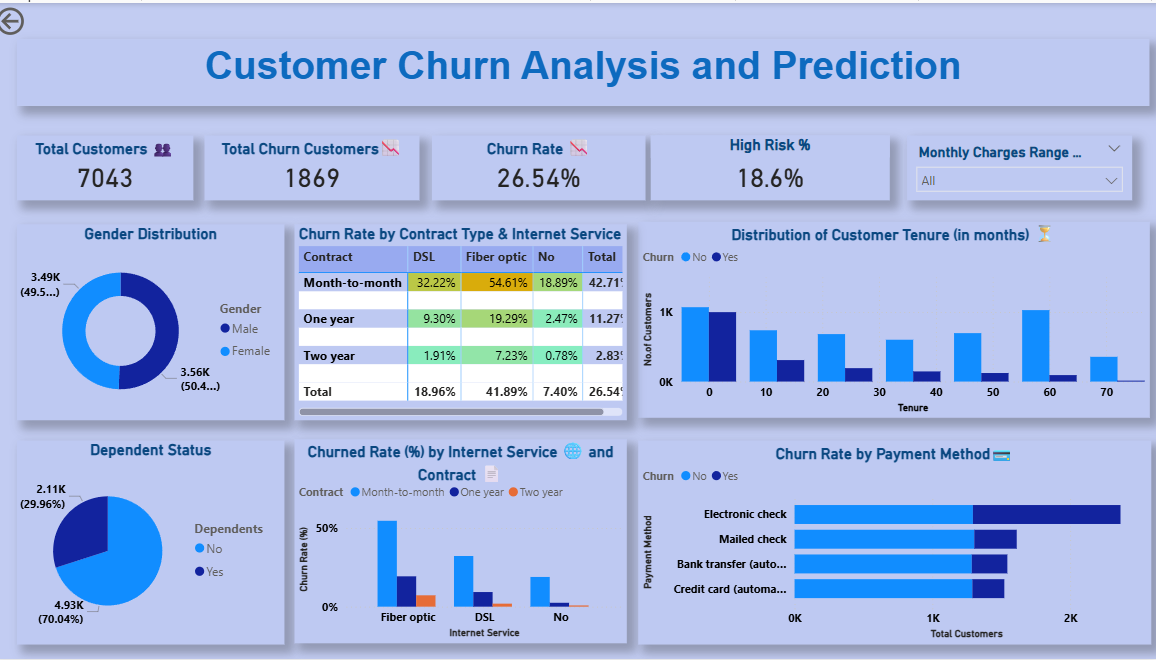

The dashboard page shown, as its layout file describes it:
{"tool":"powerbi","page":{"name":"Page 1","canvas":[1280,720],"ordinal":0},"visuals":[{"type":"actionButton","box":[0,0,100,40],"z":0},{"type":"card","title":"Total Customers 👥","fields":{"Values":["Telco_Customer_Churn_Dataset  (2).Total Customers"]},"box":[27.4,145.5,193.5,71.4],"z":1000},{"type":"card","title":"Total Churn Customers📉","fields":{"Values":["Telco_Customer_Churn_Dataset  (2).Count of Churn for Yes"]},"box":[233.3,145.5,236,71.4],"z":2000},{"type":"card","title":"Churn Rate 📉","fields":{"Values":["Telco_Customer_Churn_Dataset  (2).Churned Rate"]},"box":[483,145.5,234.6,71.4],"z":3000},{"type":"slicer","title":"Monthly Charges Range💵","fields":{"Values":["Telco_Customer_Churn_Dataset  (2).Monthly Charges Range"]},"box":[1004.5,145.5,247,71.4],"z":4000},{"type":"donutChart","title":"Gender Distribution","fields":{"Category":["Telco_Customer_Churn_Dataset  (2).Gender"],"Y":["CountNonNull(Telco_Customer_Churn_Dataset  (2).Gender)"]},"box":[27.4,242.9,293.7,215.4],"z":5000},{"type":"pieChart","title":"Dependent Status","fields":{"Category":["Telco_Customer_Churn_Dataset  (2).Dependents"],"Y":["CountNonNull(Telco_Customer_Churn_Dataset  (2).customer ID)"]},"box":[27.4,480.3,293.7,223.7],"z":6000},{"type":"clusteredColumnChart","title":"Distribution of Customer Tenure (in months) ⏳","fields":{"Category":["Telco_Customer_Churn_Dataset  (2).Tenure (bins)"],"Series":["Telco_Customer_Churn_Dataset  (2).Churn"],"Y":["Telco_Customer_Churn_Dataset  (2).Total Customers"]},"box":[709.4,240.1,561.2,215.4],"z":7000},{"type":"pivotTable","title":"Churn Rate by Contract Type & Internet Service","fields":{"Rows":["Telco_Customer_Churn_Dataset  (2).Contract"],"Columns":["Telco_Customer_Churn_Dataset  (2).Internet Service"],"Values":["Telco_Customer_Churn_Dataset  (2).Churned Rate (%)"]},"box":[332.1,242.9,365,215.4],"z":8000},{"type":"clusteredColumnChart","title":"Churned Rate (%) by Internet Service 🌐 and Contract 📄","fields":{"Category":["Telco_Customer_Churn_Dataset  (2).Internet Service"],"Series":["Telco_Customer_Churn_Dataset  (2).Contract"],"Y":["Telco_Customer_Churn_Dataset  (2).Churned Rate (%)"]},"box":[332.1,478.9,364.9,223.8],"z":9000},{"type":"barChart","title":"Churn Rate by Payment Method💳","fields":{"Category":["Telco_Customer_Churn_Dataset  (2).Payment Method"],"Series":["Telco_Customer_Churn_Dataset  (2).Churn"],"Y":["Telco_Customer_Churn_Dataset  (2).Total Customers"]},"box":[709.8,480.4,563,223.8],"z":10000},{"type":"textbox","box":[27.4,39.8,1243.2,72.7],"z":11000},{"type":"card","title":"High Risk %","fields":{"Values":["Telco_Customer_Churn_Dataset  (2).High Risk %"]},"box":[723.2,145.5,262.1,71.4],"z":12000}]}

Visuals, with their boxes in screenshot pixels (x1, y1, x2, y2), scaled from the page's 1280x720 canvas onto the 1156x660 screenshot:
actionButton: (left=0, top=0, right=90, bottom=37)
"Total Customers 👥" card: (left=25, top=133, right=200, bottom=199)
"Total Churn Customers📉" card: (left=211, top=133, right=424, bottom=199)
"Churn Rate 📉" card: (left=436, top=133, right=648, bottom=199)
"Monthly Charges Range💵" slicer: (left=907, top=133, right=1130, bottom=199)
"Gender Distribution" donutChart: (left=25, top=223, right=290, bottom=420)
"Dependent Status" pieChart: (left=25, top=440, right=290, bottom=645)
"Distribution of Customer Tenure (in months) ⏳" clusteredColumnChart: (left=641, top=220, right=1148, bottom=418)
"Churn Rate by Contract Type & Internet Service" pivotTable: (left=300, top=223, right=630, bottom=420)
"Churned Rate (%) by Internet Service 🌐 and Contract 📄" clusteredColumnChart: (left=300, top=439, right=629, bottom=644)
"Churn Rate by Payment Method💳" barChart: (left=641, top=440, right=1149, bottom=646)
textbox: (left=25, top=36, right=1148, bottom=103)
"High Risk %" card: (left=653, top=133, right=890, bottom=199)
